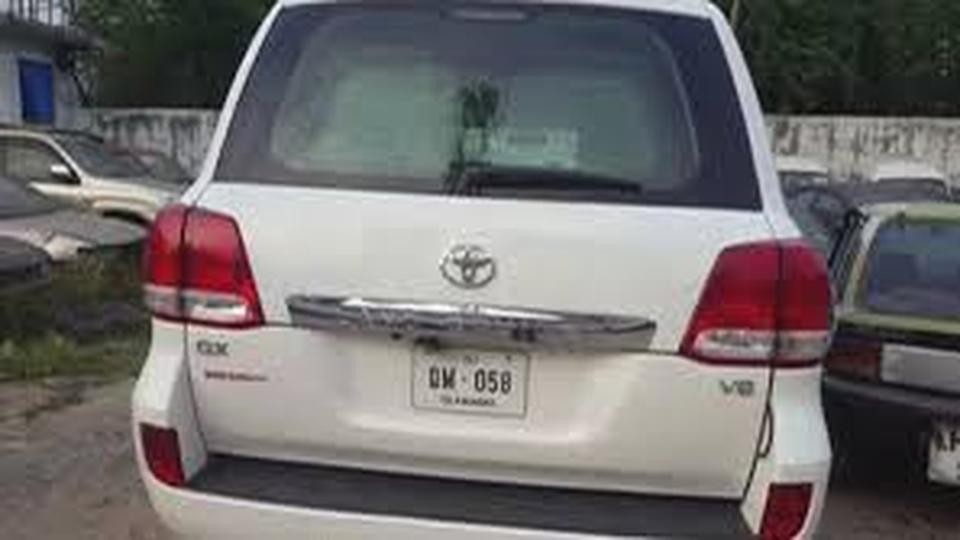NumberPlate: (402, 334, 531, 417)
